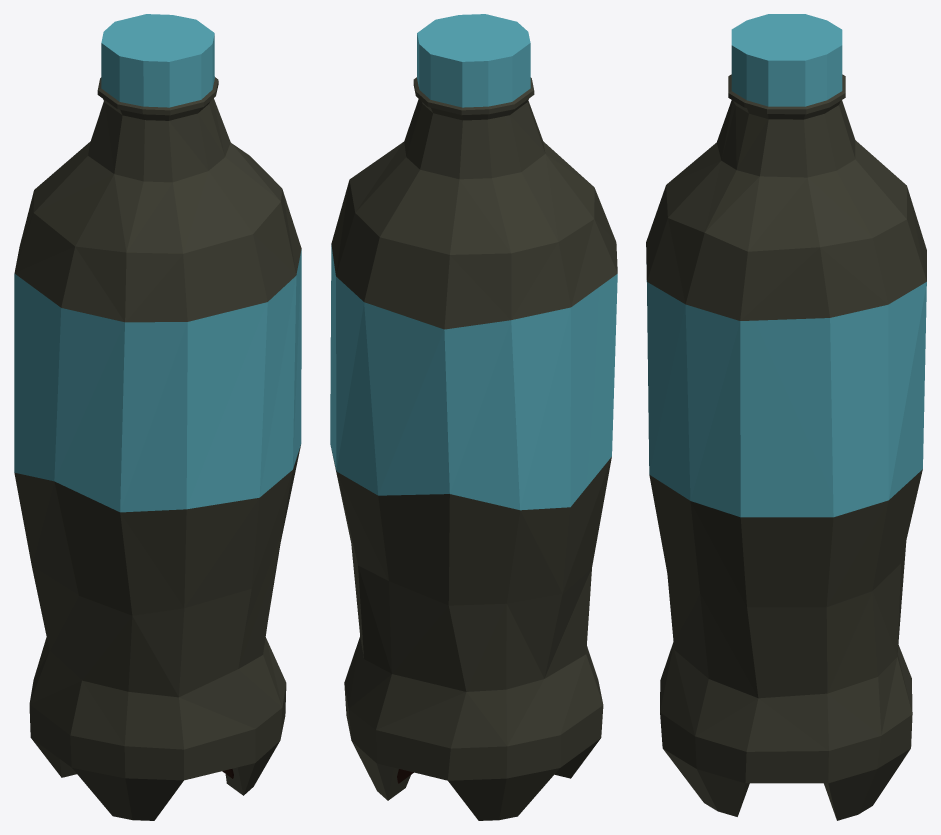
The model's file is BottleOfCola2.fbx.
The picture shows the model from 3 angles, left to right: view 1: azimuth 30°, elevation 25°; view 2: azimuth 150°, elevation 25°; view 3: azimuth 270°, elevation 25°; orthographic projection.
Parts seen in each view (by area): view 1: Bottle; view 2: Bottle; view 3: Bottle.
Boxes of the visible parts, left/top/right/bottom form: Bottle: left=14, top=14, right=301, bottom=820; Bottle: left=330, top=14, right=617, bottom=820; Bottle: left=646, top=14, right=926, bottom=820.
Size of the model in its own units: 148 by 434 by 148.
